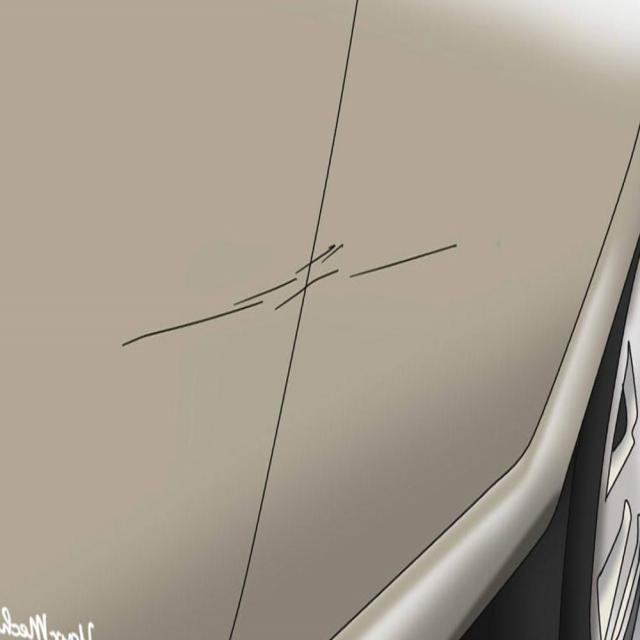scratch: (117, 231, 344, 368), (348, 228, 471, 299)
